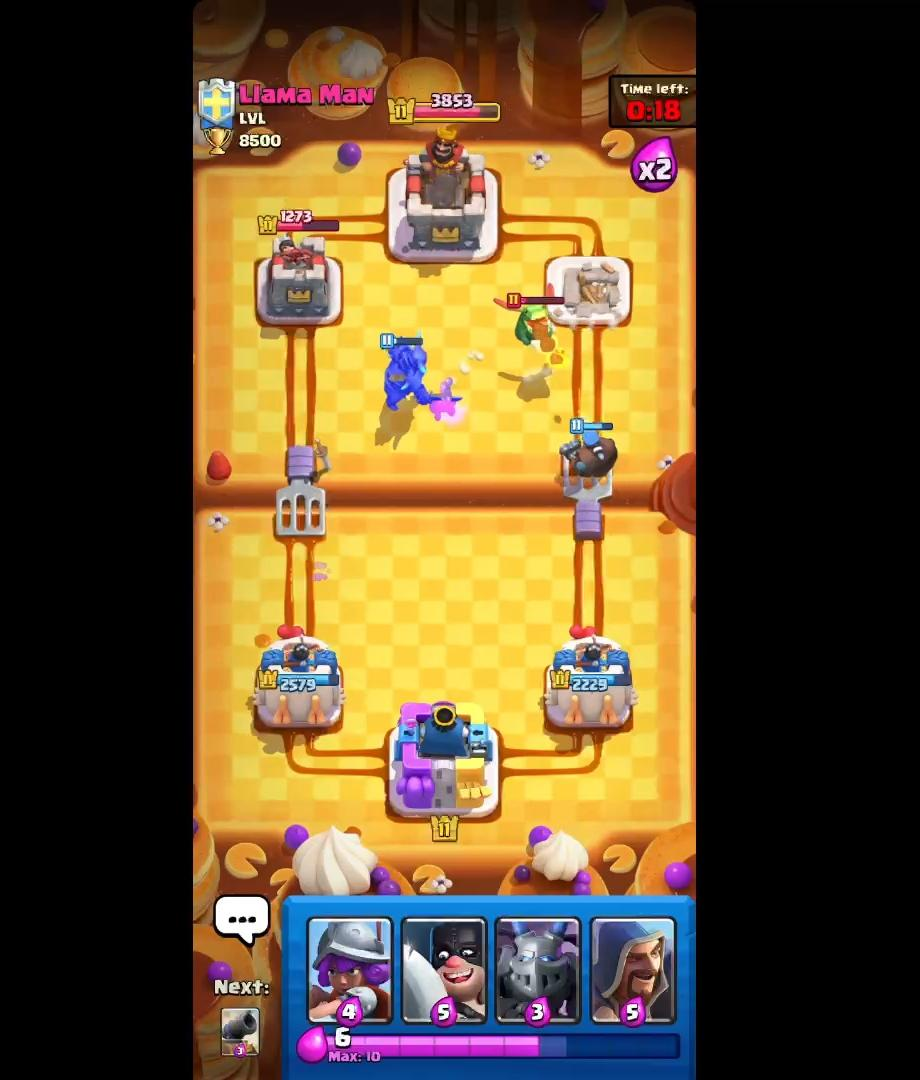Baby Dragon: (490, 285, 580, 361)
